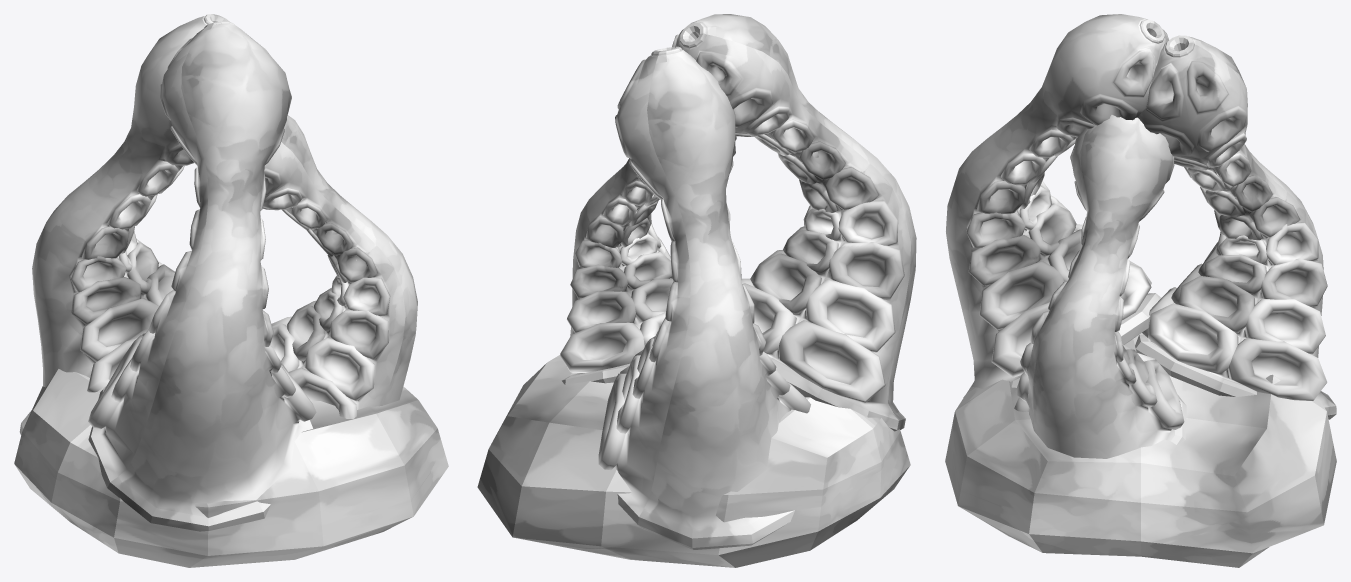
File: eldrich_pillar_base.gltf
3 views of the same model, side by side, from view 1: azimuth 30°, elevation 25°; view 2: azimuth 150°, elevation 25°; view 3: azimuth 270°, elevation 25° (orthographic). The views are drawn at different scales.
Parts seen in each view (by area): view 1: Cultist.002; view 2: Cultist.002; view 3: Cultist.002.
Part boxes in pixels (box(x1,y1,x2,y2)): Cultist.002: box(14, 14, 448, 567); Cultist.002: box(477, 14, 916, 567); Cultist.002: box(945, 14, 1336, 567).
Size of the model in its own units: 3.64 by 4.74 by 3.48.
Materials: 1 (1 with a texture image).
